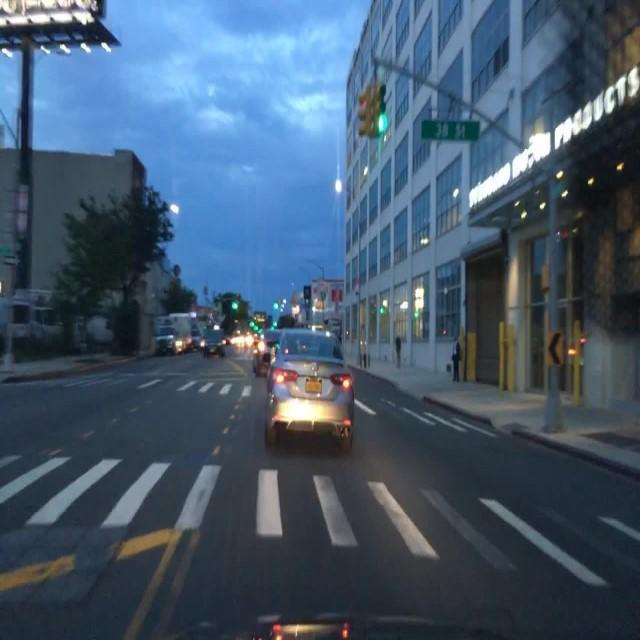normal: (240, 300, 384, 458)
